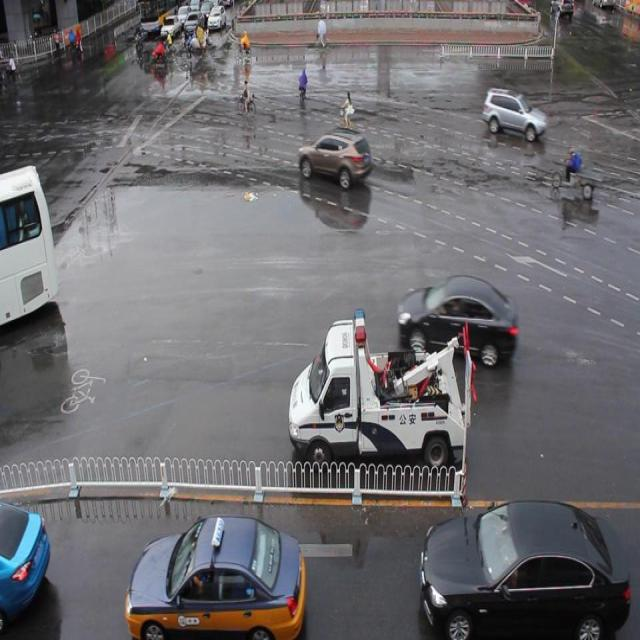bus: (288, 305, 474, 475)
car: (418, 501, 630, 640), (126, 512, 306, 640), (395, 274, 517, 366), (1, 499, 52, 640), (297, 128, 372, 188), (481, 84, 546, 140)
van: (0, 161, 60, 333)
